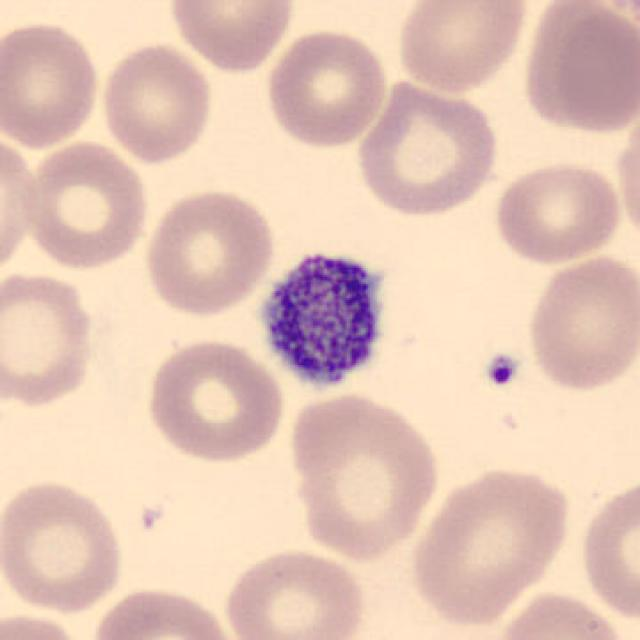Platelets: (251, 240, 398, 404), (480, 349, 523, 391)
RBC: (407, 462, 574, 628), (284, 390, 442, 562), (352, 75, 501, 218), (142, 335, 286, 465), (0, 474, 130, 617), (141, 185, 279, 319), (19, 136, 153, 272), (523, 250, 638, 395), (261, 25, 393, 150), (96, 39, 217, 166), (489, 155, 626, 266), (528, 2, 636, 138), (220, 543, 370, 640), (0, 268, 100, 411), (0, 15, 103, 152), (393, 0, 531, 95), (574, 471, 640, 626), (164, 0, 298, 74), (87, 582, 240, 640), (489, 587, 631, 640), (0, 127, 43, 279), (611, 107, 640, 250), (0, 608, 91, 640)
